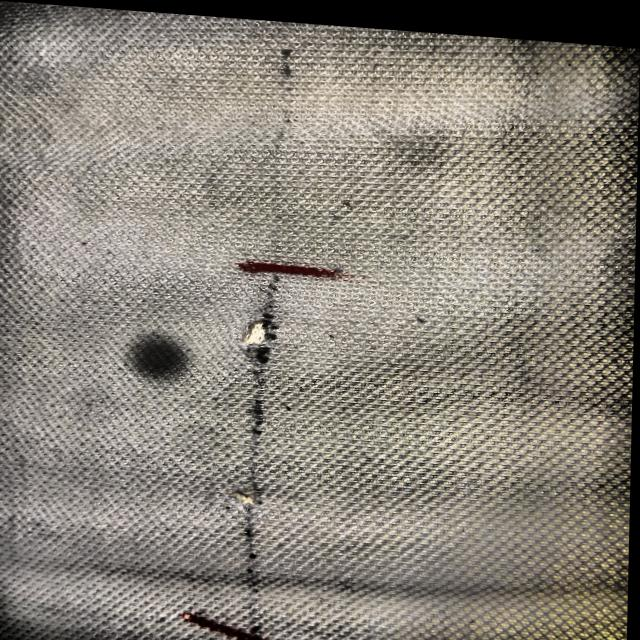Hole: (123, 321, 192, 384), (242, 307, 287, 350), (233, 472, 278, 508)
